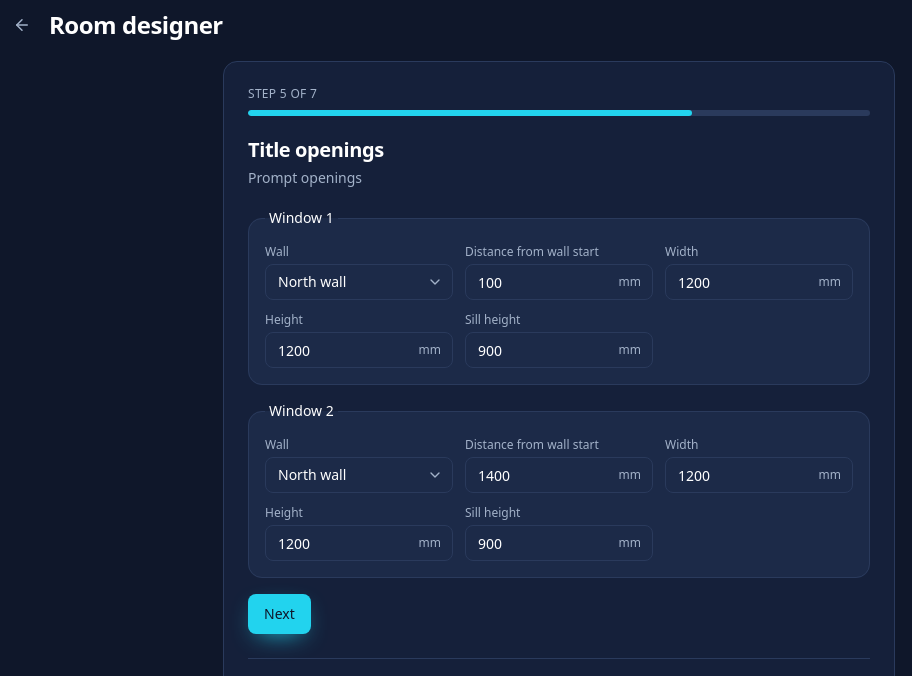
Scenario: Room designer: wizard › flags two openings that overlap on one wall
Expected: the text "Window 2" is shown, [265,401,338,421]
Select "North wall" in the dropdown labelled "Wall" below "Window 2" at {"x": 359, "y": 475}, box [265,457,453,493]
Replace the text in the number field labelled "Distance from wall start" below "Window 2" with "100" at {"x": 559, "y": 475}, box [465,457,653,493]
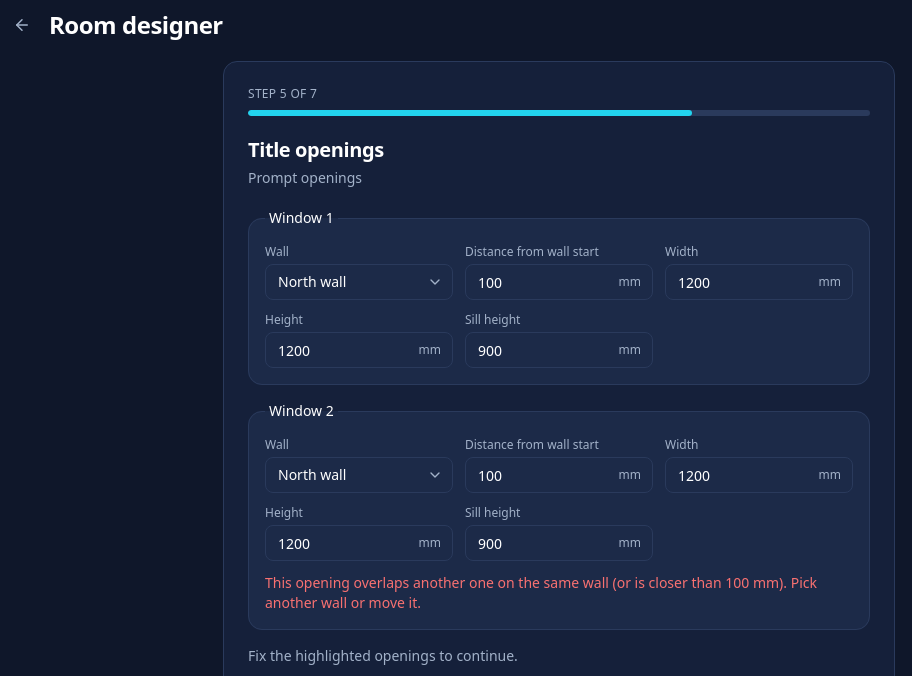
Result: the message shows "overlaps another one" at [265,573,817,612]
